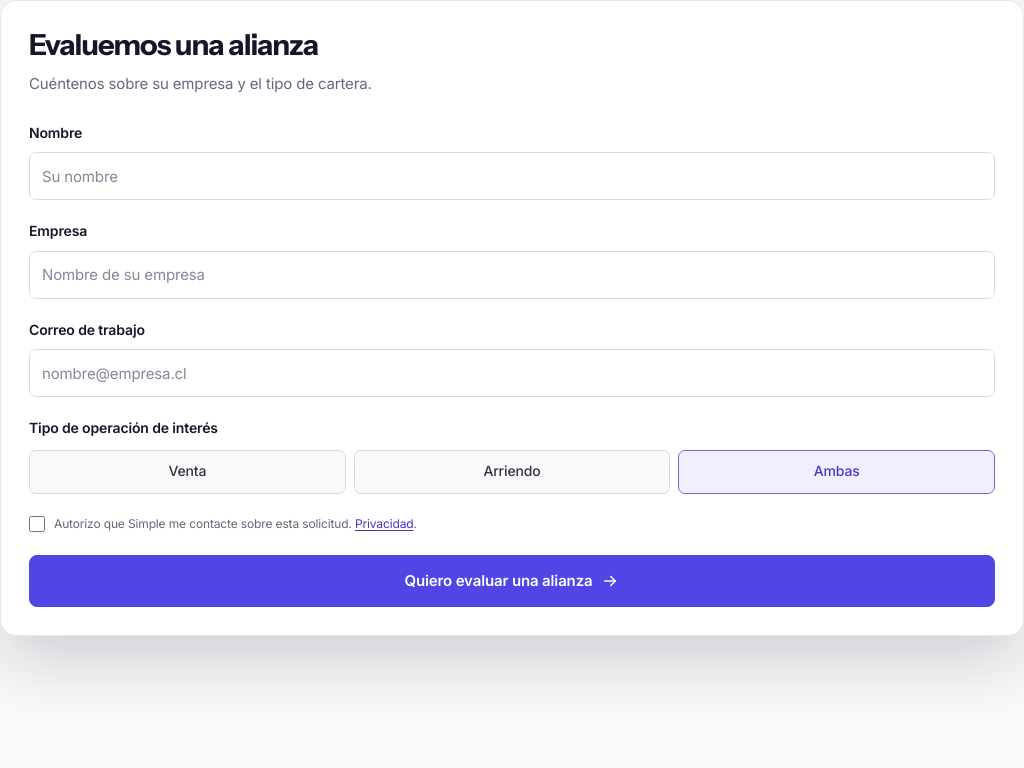
Test case: formulario de alianzas › envía los datos autorizados y muestra confirmación tras la recepción del servidor
Step 1. Type "Ana Pérez" into the field labelled "Nombre" → (512, 176), box left=29, top=152, right=995, bottom=200
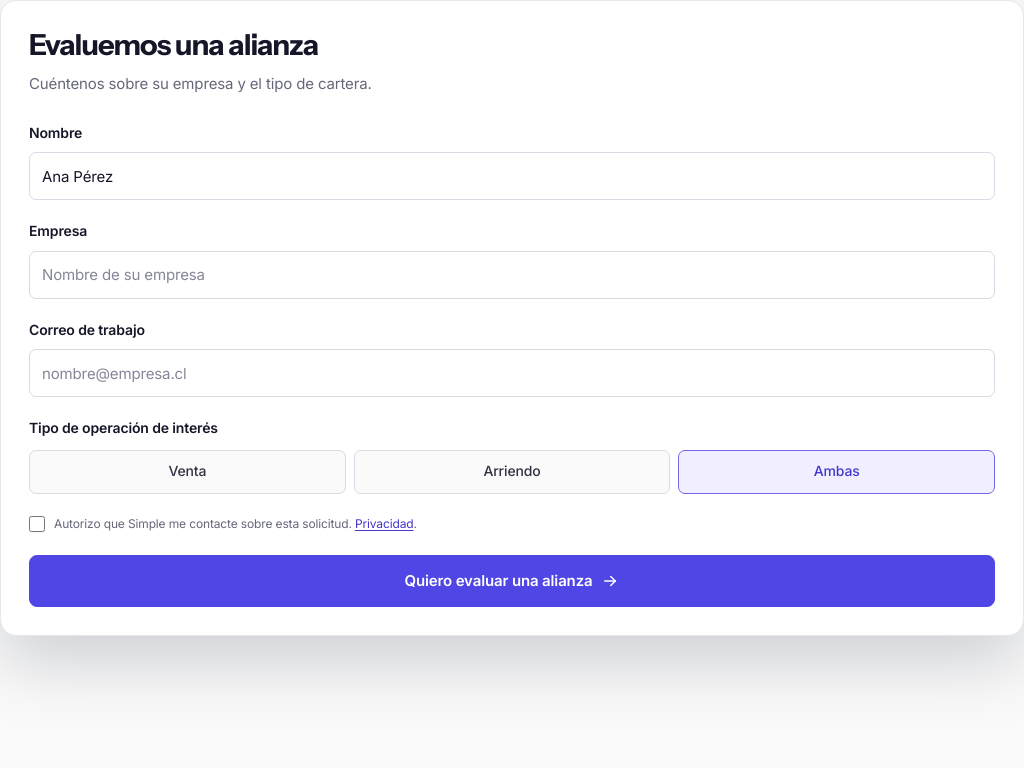
Step 2. Type "Empresa de prueba" into the field labelled "Empresa" → (512, 275), box left=29, top=251, right=995, bottom=299
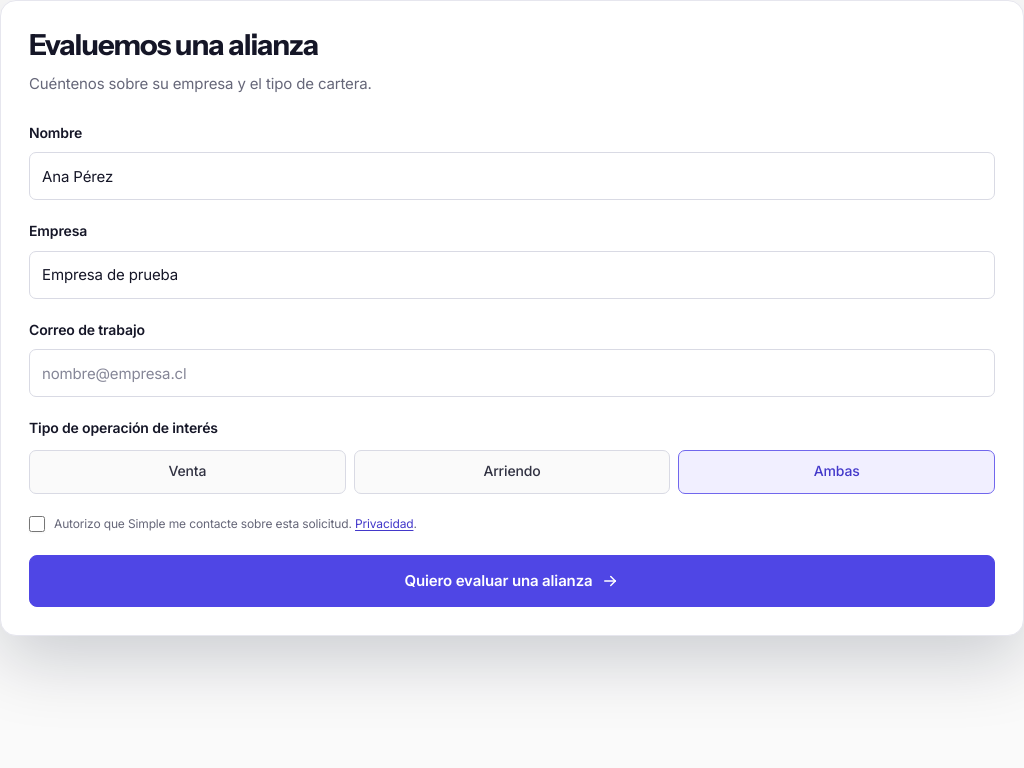
Step 3. Type "ana@empresa.cl" into the field labelled "Correo de trabajo" → (512, 373), box left=29, top=349, right=995, bottom=397
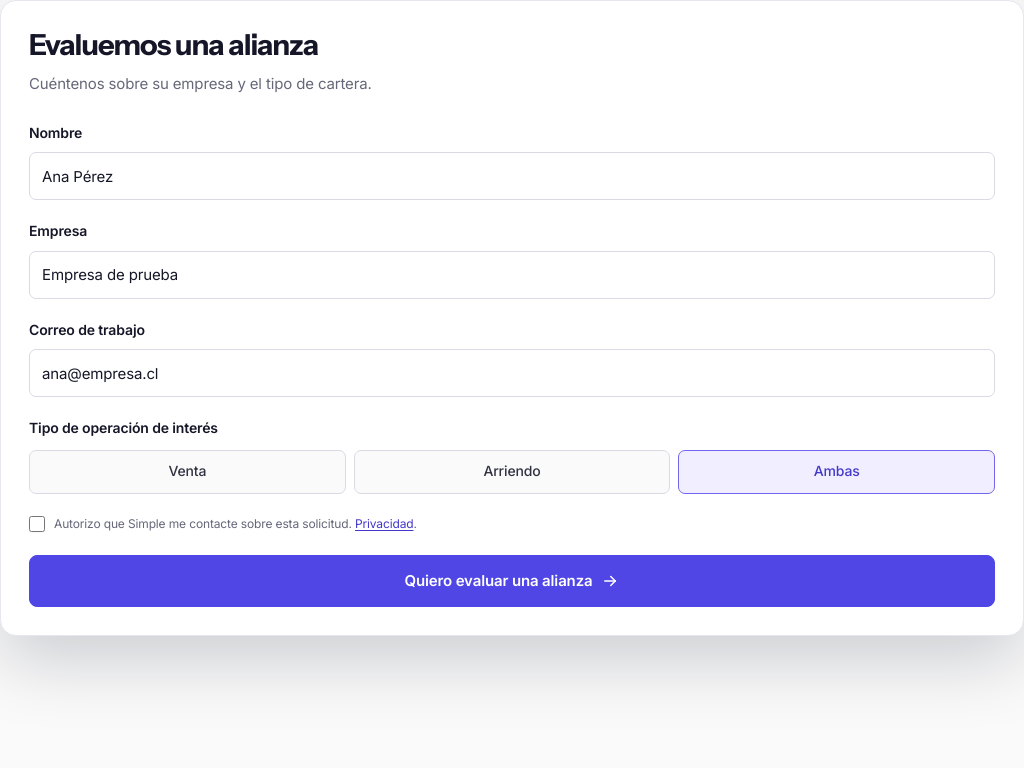
Step 4. Click the checkbox → (37, 524), box left=29, top=516, right=45, bottom=532
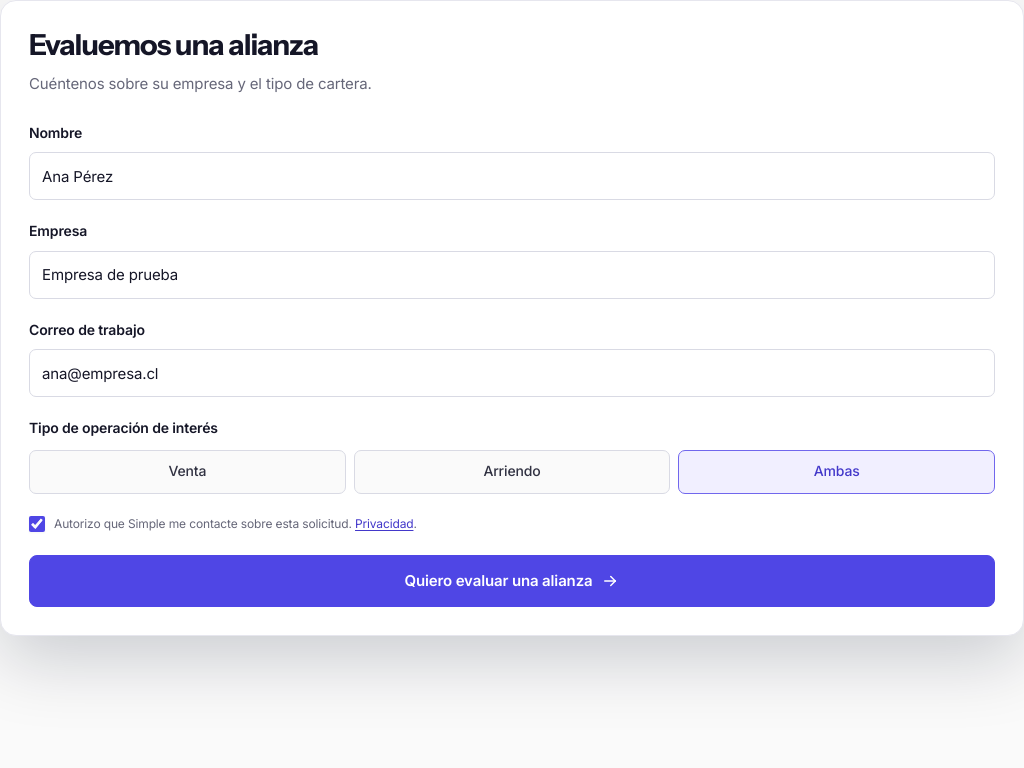
Step 5. Click the radio button labelled "Arriendo" → (512, 472), box left=354, top=450, right=670, bottom=494
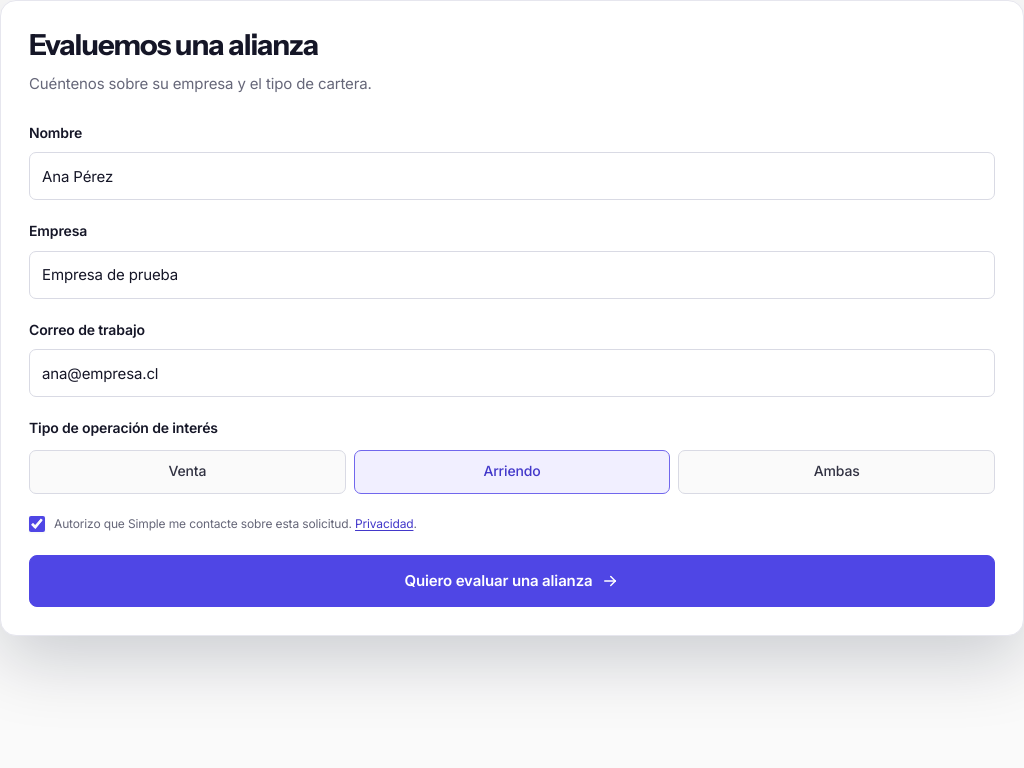
Step 6. Submit the form, box left=29, top=122, right=995, bottom=607
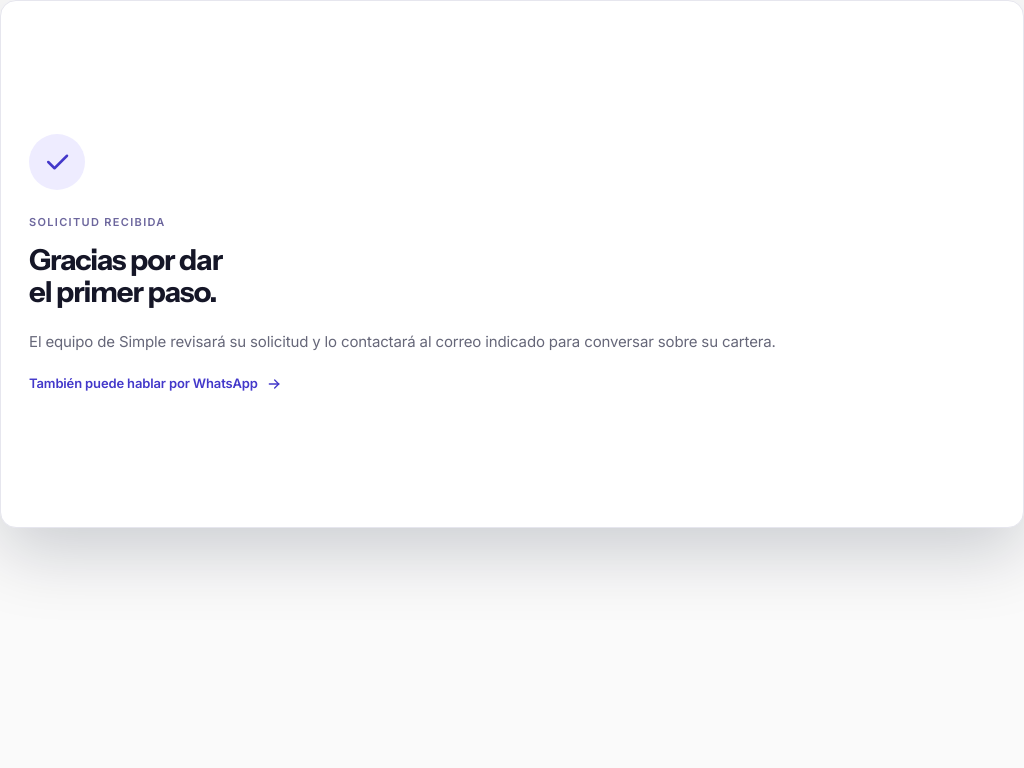
Result: the text "Solicitud recibida" is shown at left=29, top=214, right=166, bottom=232
Result: the button "Quiero evaluar una alianza" is gone
